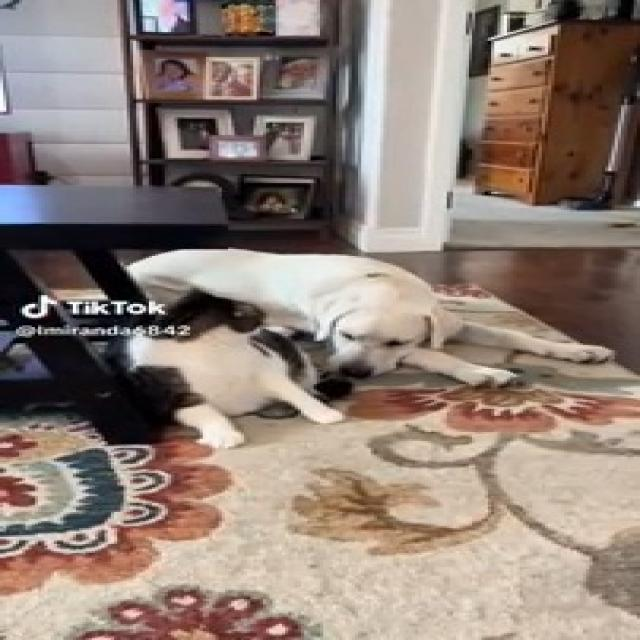dogs: (109, 250, 620, 448)
